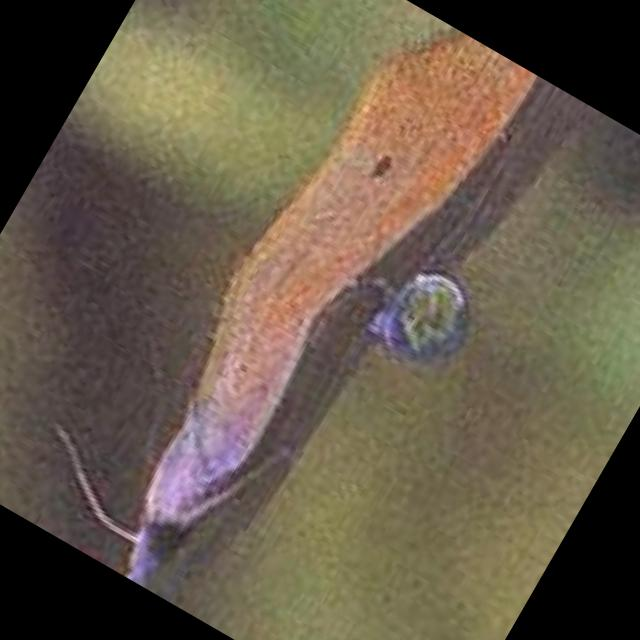stem-borer: (63, 0, 519, 620)
